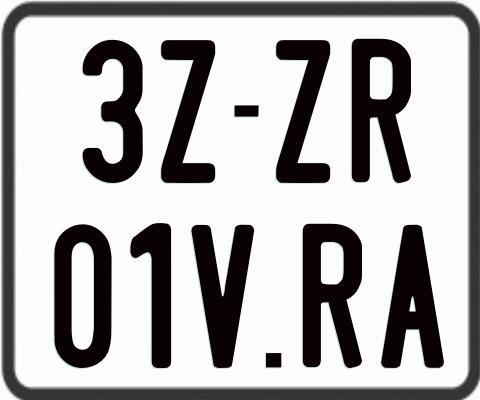0: (52, 222, 115, 369)
1: (129, 223, 176, 372)
3: (82, 40, 145, 185)
A: (381, 223, 450, 368)
R: (302, 221, 364, 369), (349, 38, 408, 186)
V: (190, 223, 253, 368)
Z: (161, 39, 221, 186), (275, 38, 334, 184)
